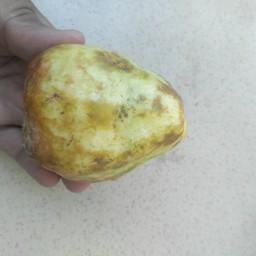Bad_guava: (23, 39, 190, 185)
